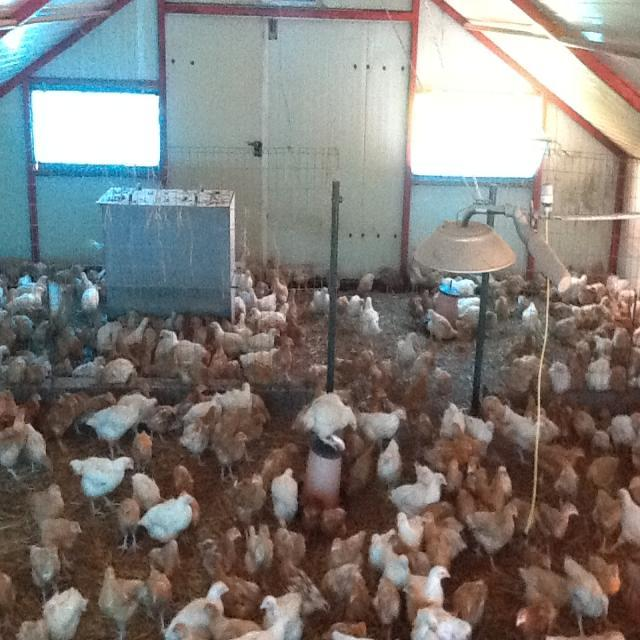poussin: (287, 390, 360, 450), (163, 578, 230, 640), (564, 552, 612, 637), (70, 454, 136, 514), (98, 564, 149, 640), (465, 503, 522, 568), (388, 466, 448, 520), (56, 393, 114, 448), (276, 559, 332, 615), (523, 560, 572, 624), (86, 402, 143, 457), (138, 492, 194, 544), (212, 564, 264, 620), (402, 564, 453, 620), (217, 471, 265, 530), (36, 517, 83, 576), (500, 408, 546, 467), (242, 336, 298, 383), (531, 502, 583, 552), (196, 526, 242, 582), (420, 508, 466, 564), (43, 587, 89, 640), (208, 422, 247, 484), (324, 559, 364, 618), (240, 519, 276, 583), (532, 442, 588, 483), (260, 592, 307, 640), (184, 406, 221, 466), (203, 601, 257, 640), (410, 605, 470, 640), (28, 542, 62, 602), (268, 468, 300, 531), (182, 386, 225, 432), (0, 408, 27, 481), (514, 596, 558, 640), (370, 576, 402, 636), (146, 562, 173, 632), (592, 492, 624, 550), (354, 406, 407, 441), (0, 390, 42, 434), (258, 440, 299, 485), (143, 406, 189, 446), (450, 578, 488, 626), (342, 442, 376, 495), (590, 544, 622, 600), (617, 482, 640, 558), (392, 508, 427, 557), (328, 530, 372, 568), (450, 422, 490, 463), (29, 482, 66, 526), (423, 436, 468, 472), (158, 327, 204, 362), (24, 425, 56, 475), (365, 528, 399, 574), (271, 525, 309, 566), (456, 466, 487, 516), (376, 437, 406, 488), (144, 536, 182, 574), (241, 398, 271, 446), (118, 494, 141, 556), (586, 452, 623, 490), (405, 356, 433, 406), (204, 346, 243, 380), (552, 462, 585, 501), (366, 358, 391, 408), (131, 471, 161, 512), (220, 382, 256, 416), (47, 392, 78, 431), (210, 321, 250, 351), (0, 570, 17, 640), (130, 427, 156, 472), (358, 295, 381, 345), (117, 394, 158, 422), (569, 409, 597, 449), (8, 286, 44, 317), (439, 398, 464, 442), (487, 466, 512, 510), (488, 272, 527, 300), (500, 356, 533, 389), (608, 414, 636, 452), (174, 464, 198, 508), (424, 308, 457, 340), (396, 332, 418, 379), (381, 551, 411, 585), (244, 324, 279, 353), (586, 356, 612, 394), (248, 304, 289, 328), (464, 412, 494, 444), (150, 348, 180, 380), (336, 292, 364, 326), (59, 324, 78, 374), (100, 358, 136, 384), (72, 354, 105, 381), (16, 274, 50, 300), (552, 398, 574, 438), (282, 288, 300, 336), (246, 288, 278, 315), (612, 321, 632, 364), (482, 394, 506, 429), (558, 273, 586, 303), (321, 506, 349, 536), (307, 360, 335, 390), (568, 354, 590, 392), (380, 266, 406, 298), (122, 317, 148, 349), (3, 354, 28, 387), (185, 386, 212, 416), (98, 322, 125, 352), (554, 313, 580, 344), (5, 259, 45, 279), (574, 296, 608, 319), (592, 304, 622, 330), (302, 498, 326, 530), (531, 365, 554, 398), (446, 454, 464, 496), (132, 338, 151, 377), (311, 288, 334, 320), (548, 295, 576, 321), (172, 622, 212, 640), (548, 362, 572, 392), (581, 278, 611, 302), (456, 306, 480, 335), (13, 310, 33, 344), (80, 284, 101, 316), (580, 310, 598, 346), (182, 316, 209, 340), (610, 292, 636, 316), (591, 331, 614, 358), (26, 358, 50, 383), (75, 264, 100, 288), (590, 428, 616, 451), (411, 264, 440, 284), (522, 300, 538, 336), (154, 306, 178, 329), (444, 280, 482, 294), (610, 365, 630, 391), (272, 274, 288, 306), (0, 333, 13, 372), (458, 294, 482, 314), (34, 318, 51, 346), (608, 274, 630, 294), (409, 297, 424, 326), (484, 306, 500, 332), (238, 266, 254, 292), (494, 294, 511, 318), (359, 272, 376, 296), (233, 311, 247, 337), (56, 267, 78, 282), (0, 308, 12, 332), (422, 288, 433, 312)
